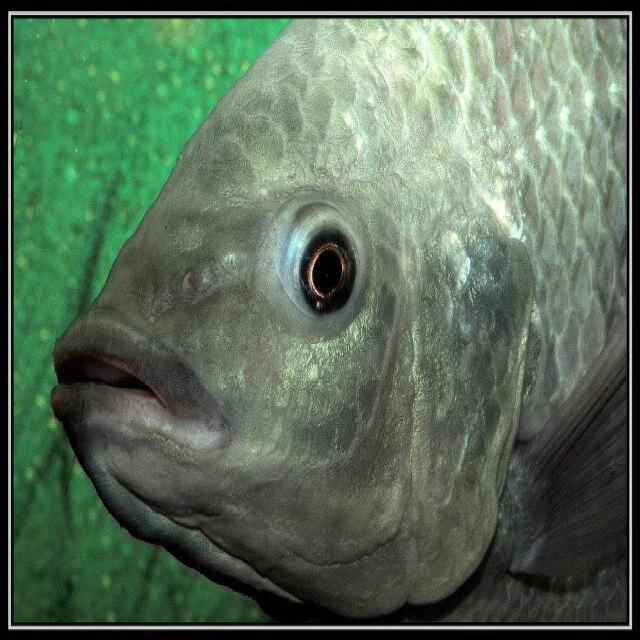ikan: (30, 29, 620, 610)
